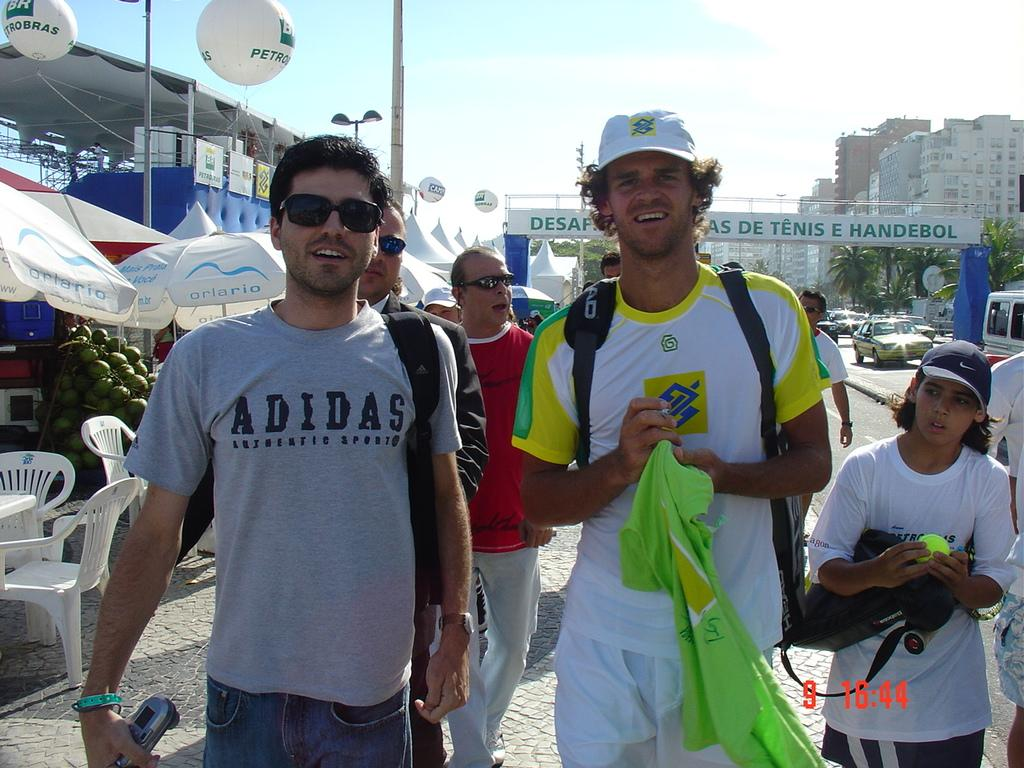Hat: (594, 106, 698, 173), (918, 338, 993, 418)
